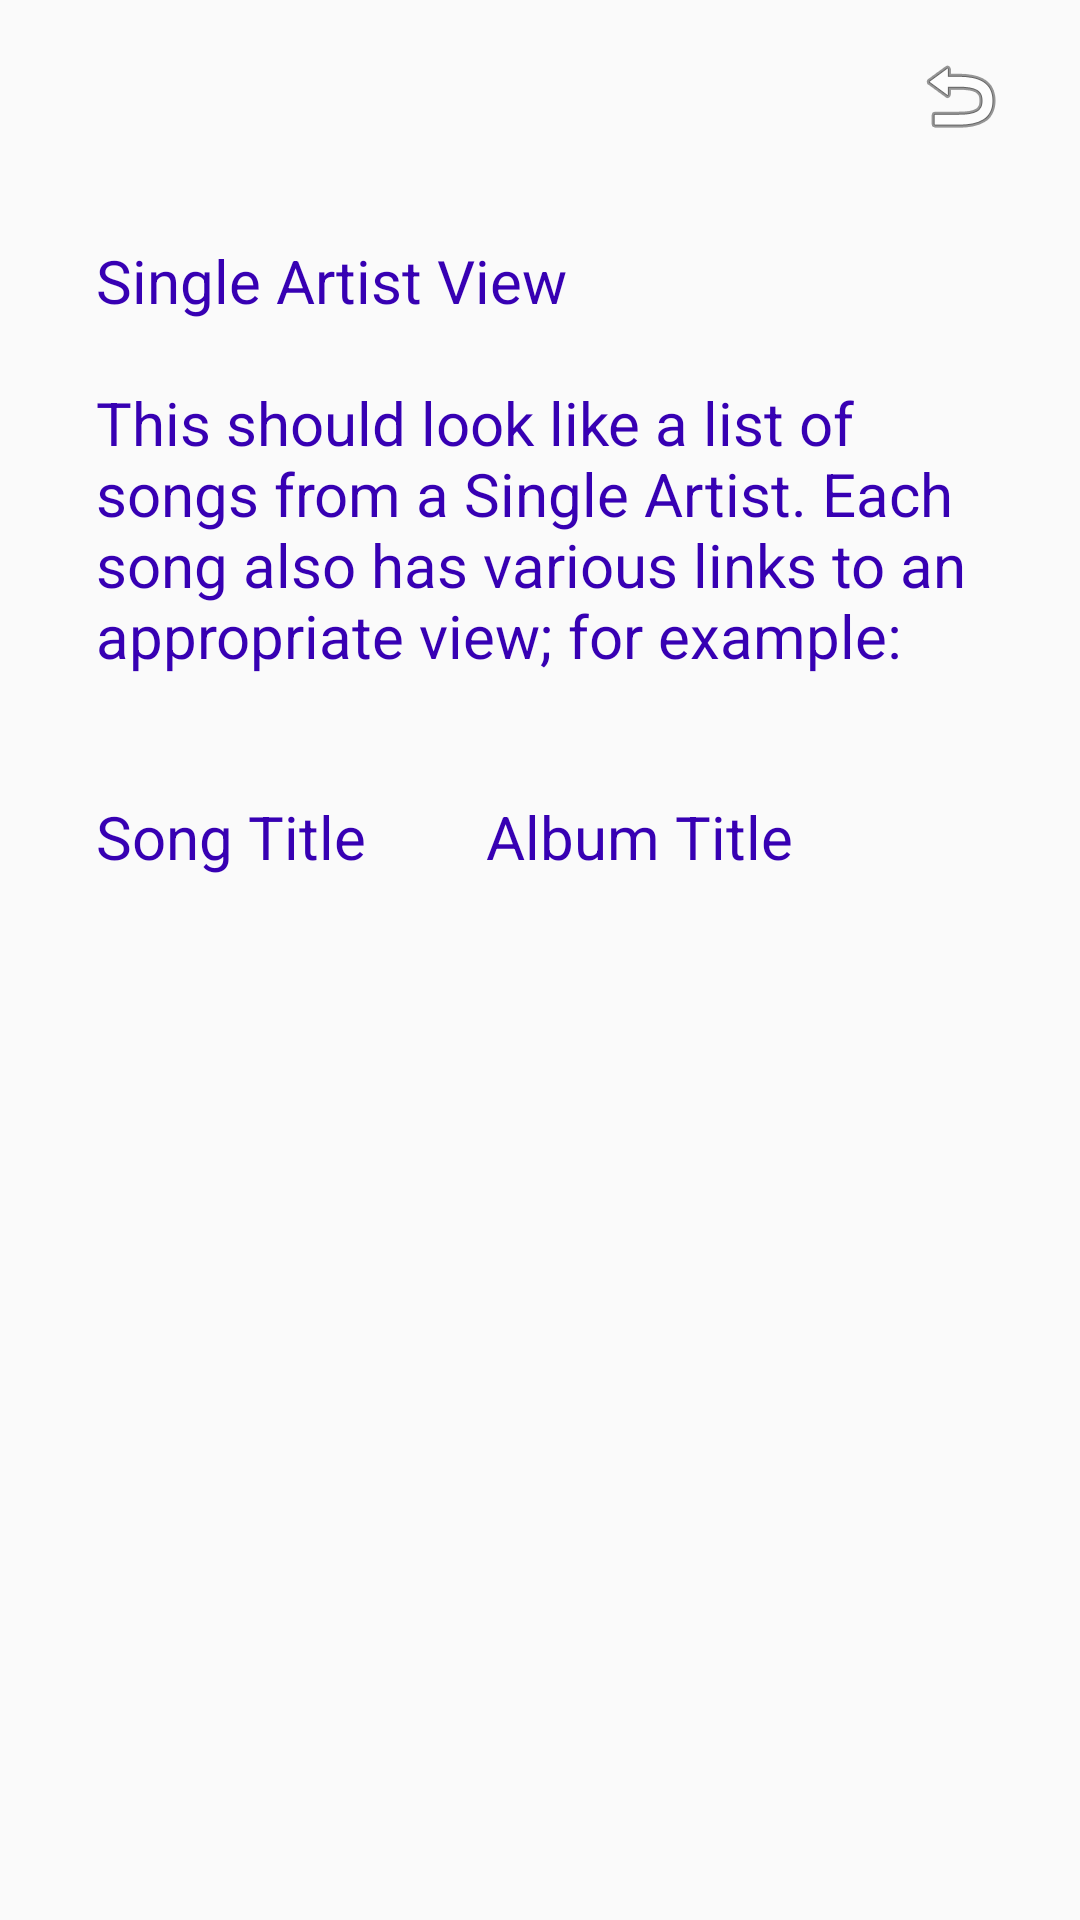

Screen size 1080px×1920px. Icon name, then its box in pixels as (x1, y1, x2, y2):
revert: (927, 65, 996, 128)
